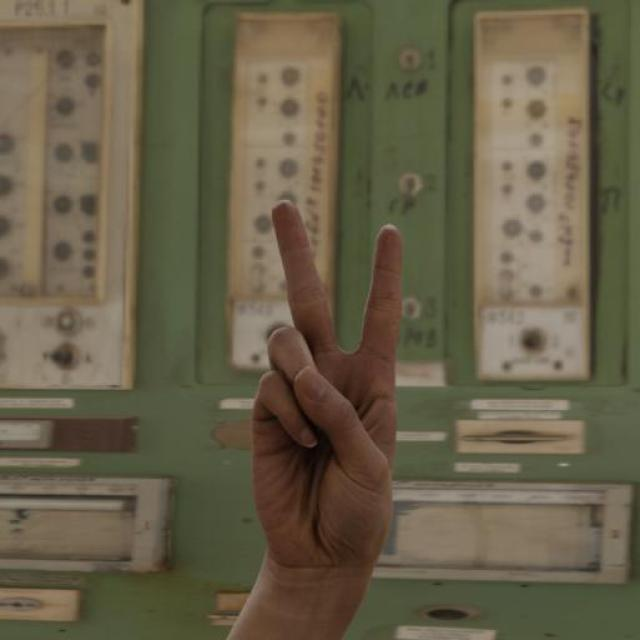V: (248, 194, 411, 600)
